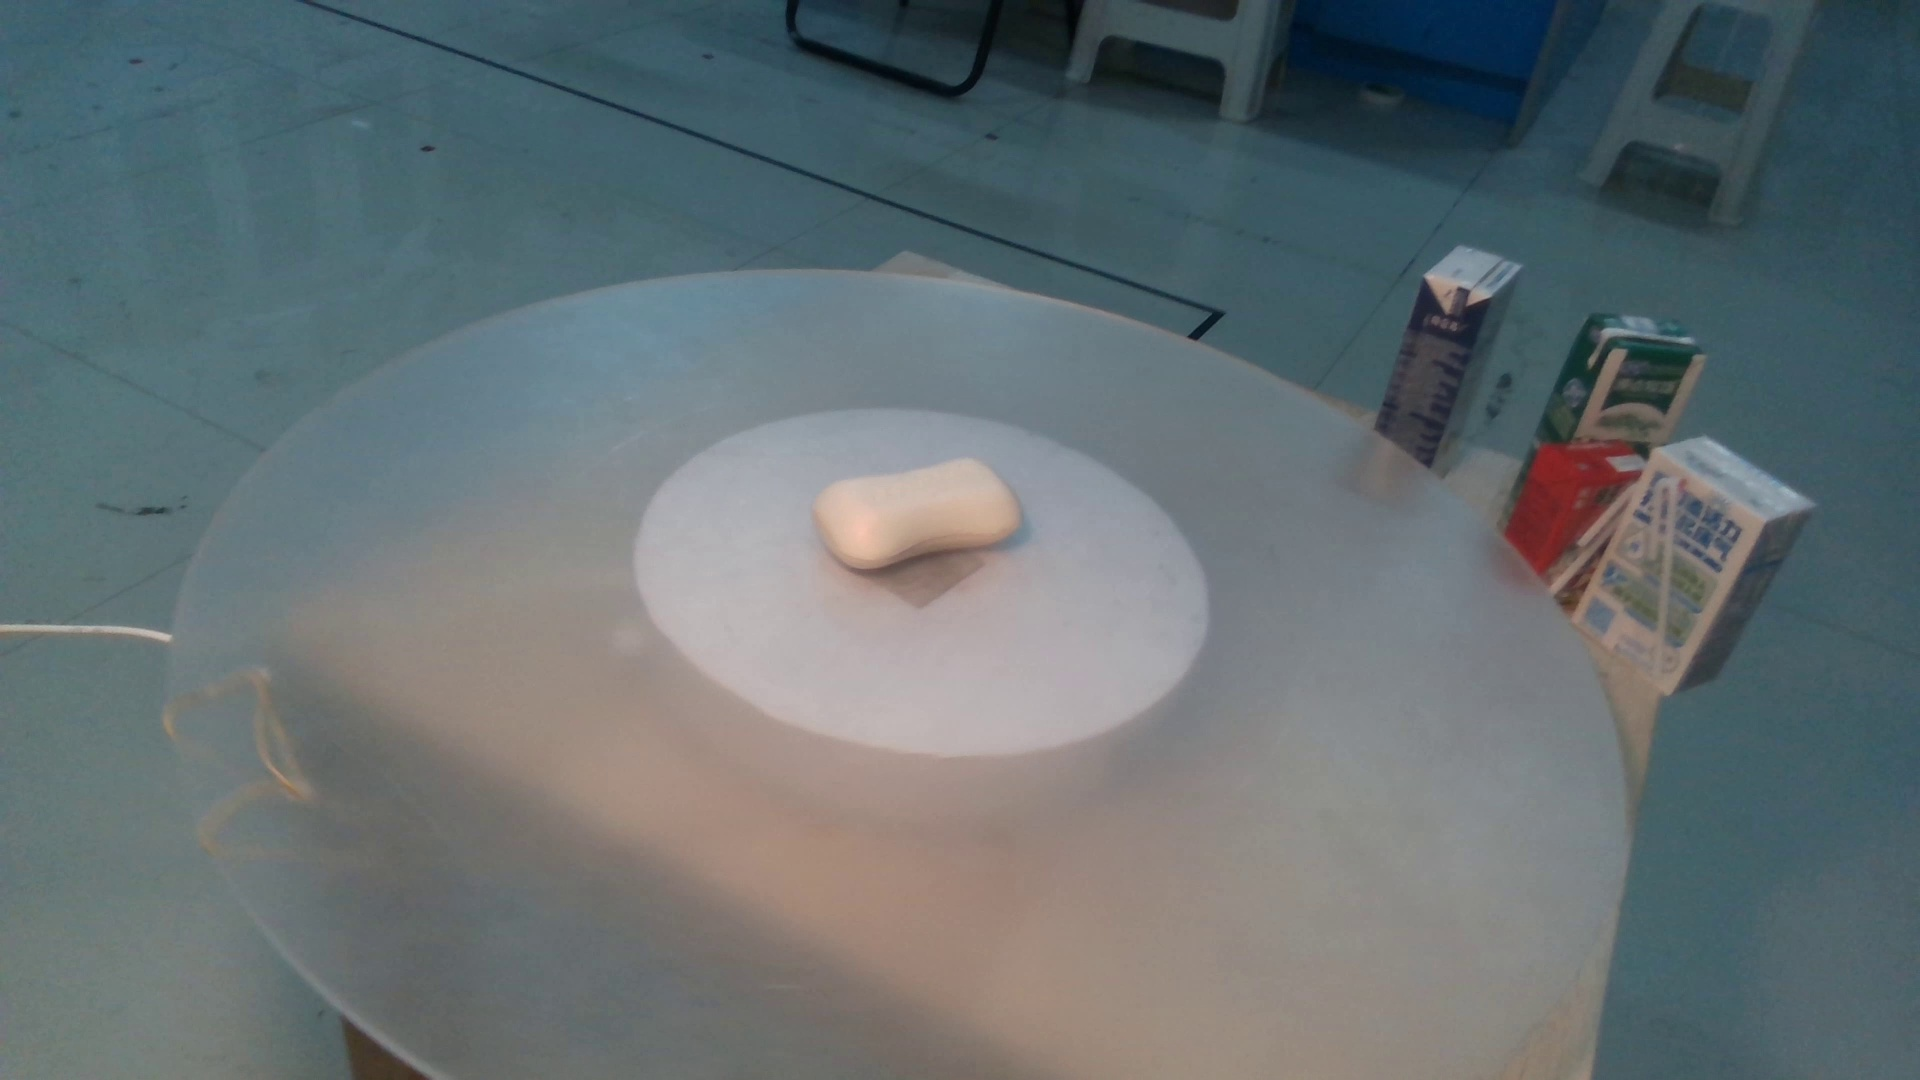CA003_1: (789, 426, 1063, 620)
